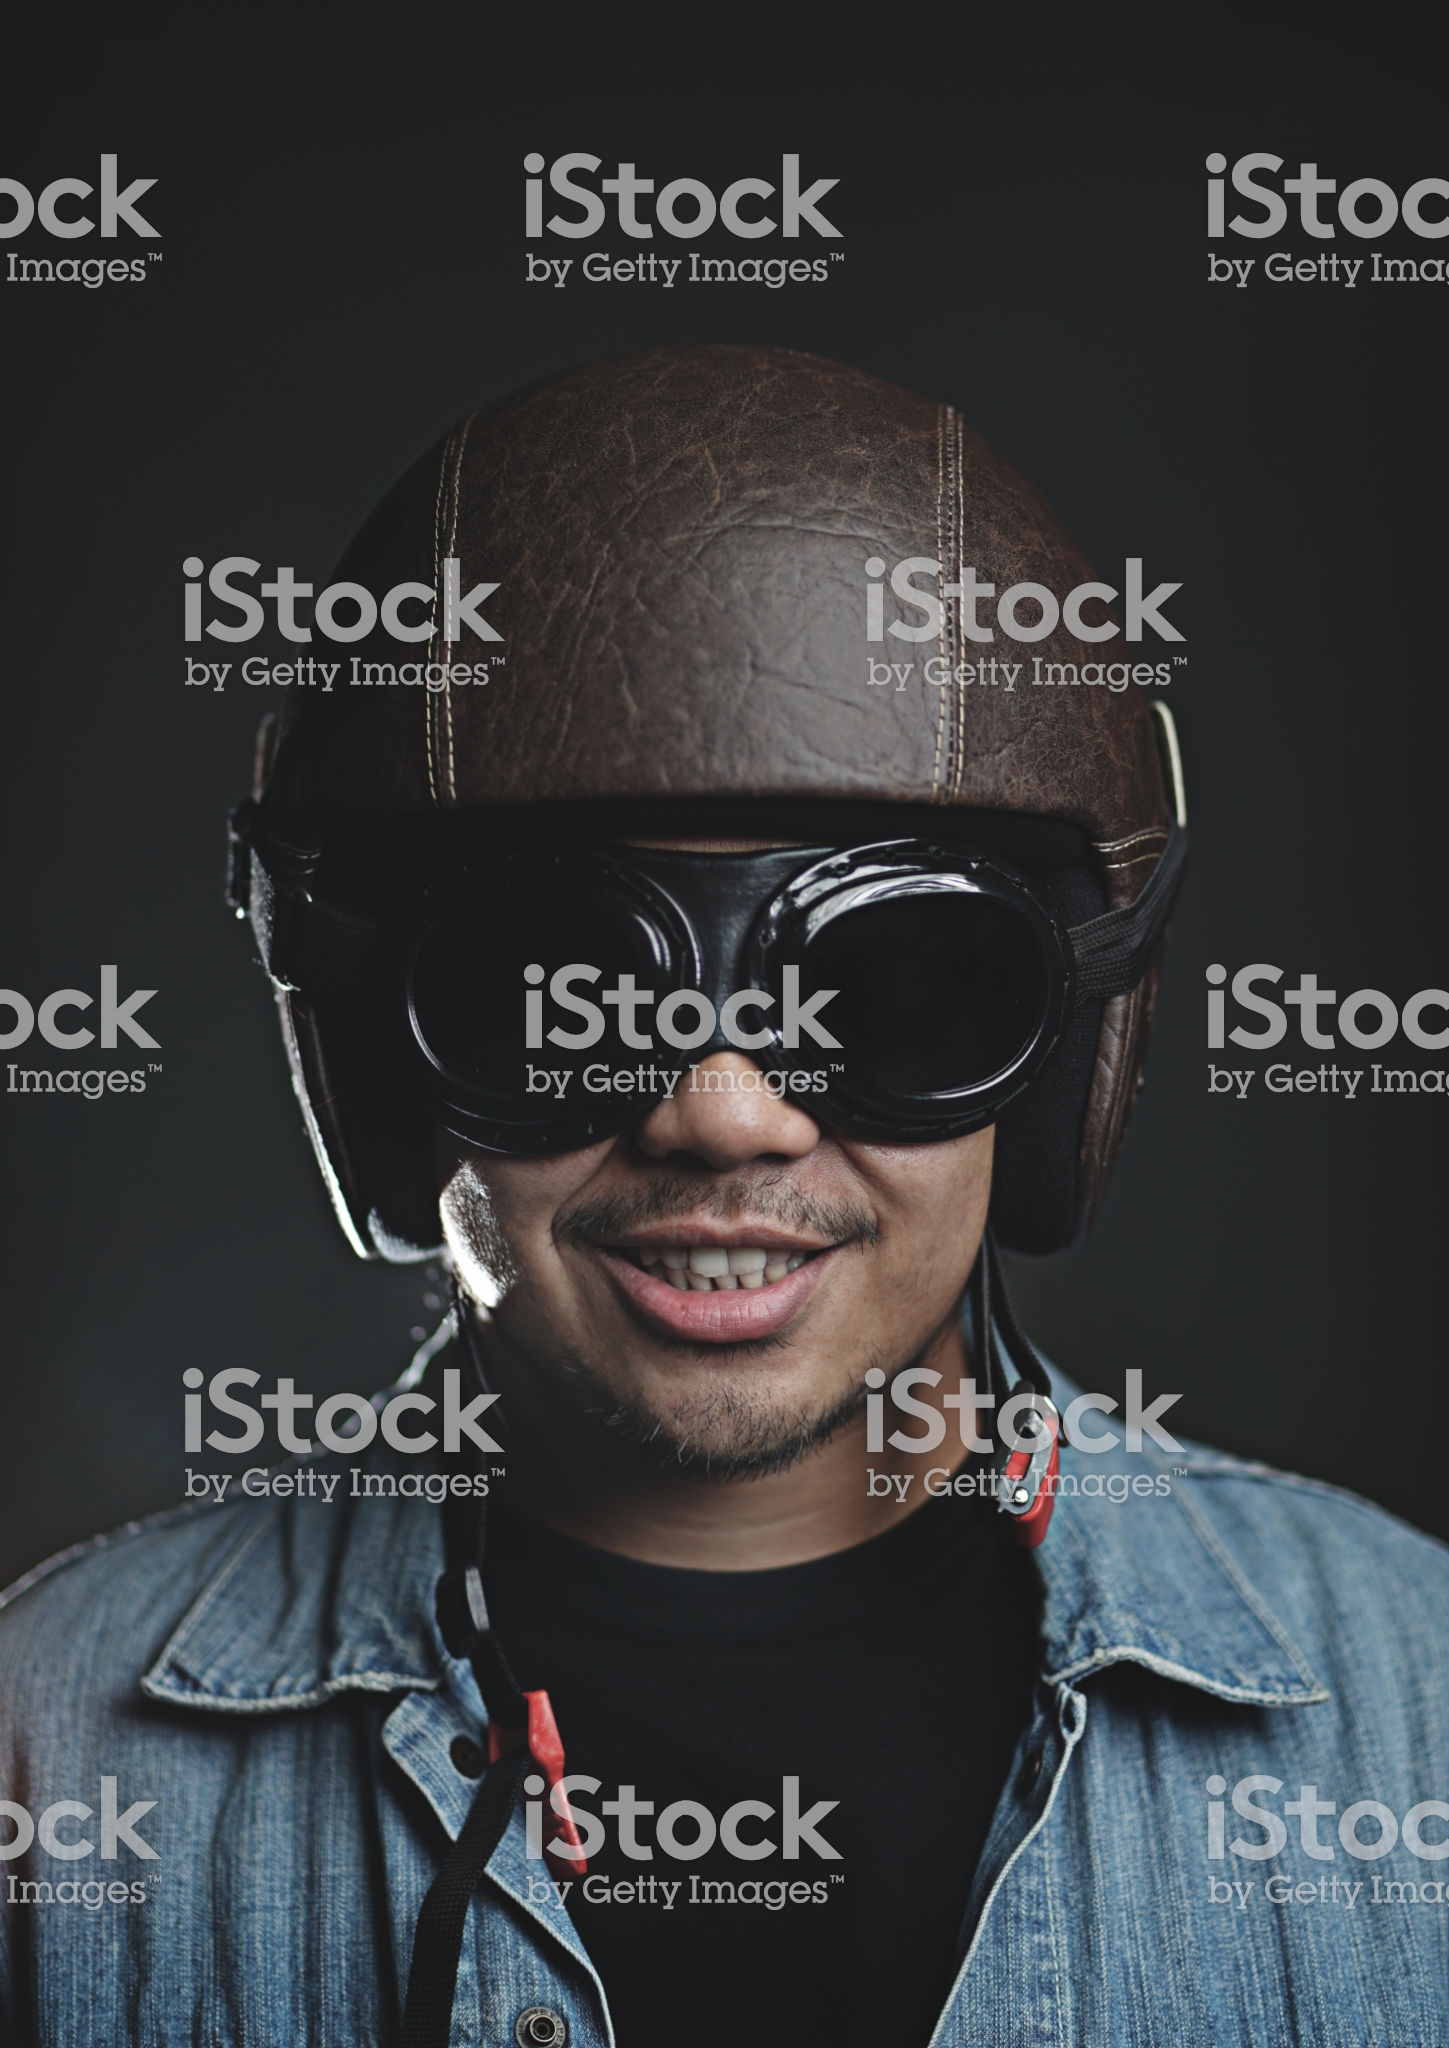helmet: (221, 336, 1291, 1156)
